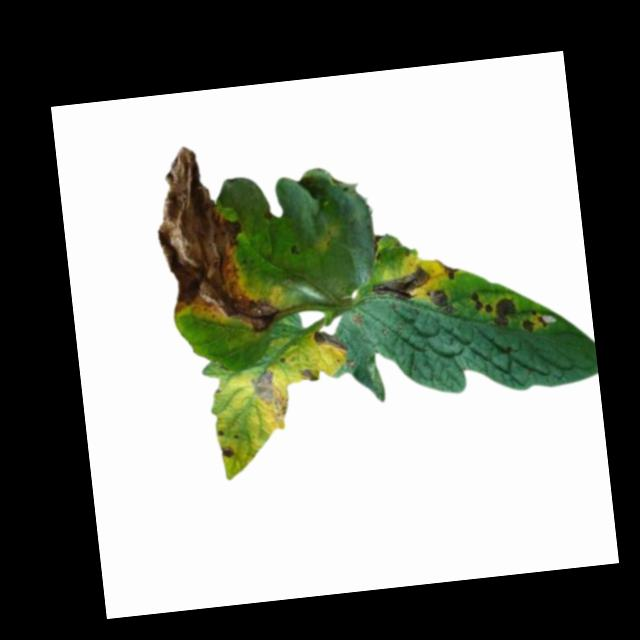Early_blight: (148, 137, 279, 339), (370, 264, 433, 304), (249, 367, 288, 421), (311, 325, 348, 355), (426, 285, 457, 314), (492, 296, 518, 326), (436, 255, 460, 283), (521, 311, 549, 333), (471, 289, 492, 314), (296, 362, 321, 383), (220, 441, 234, 458)
